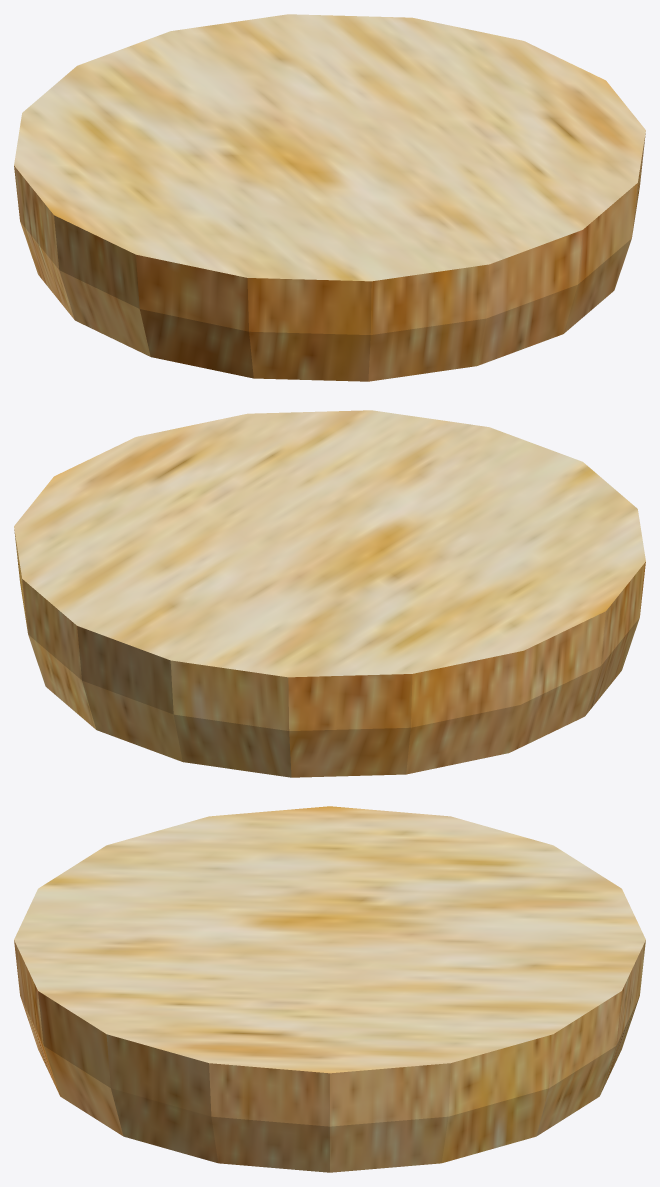
The model's file is bun_bot.glb.
The picture shows the model from 3 angles, top to bottom: view 1: azimuth 30°, elevation 25°; view 2: azimuth 150°, elevation 25°; view 3: azimuth 270°, elevation 25°; orthographic projection.
Visible parts, largest first — view 1: Sphere; view 2: Sphere; view 3: Sphere.
Part boxes in pixels (x1,y1,x2,y2): Sphere: (14, 14, 645, 381); Sphere: (14, 410, 645, 777); Sphere: (14, 806, 645, 1172).
Size of the model in its own units: 2 by 0.3827 by 2.
1 material, 1 textured.
